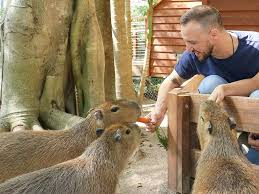capivara: (1, 98, 143, 183), (1, 122, 141, 194), (192, 101, 259, 194)
